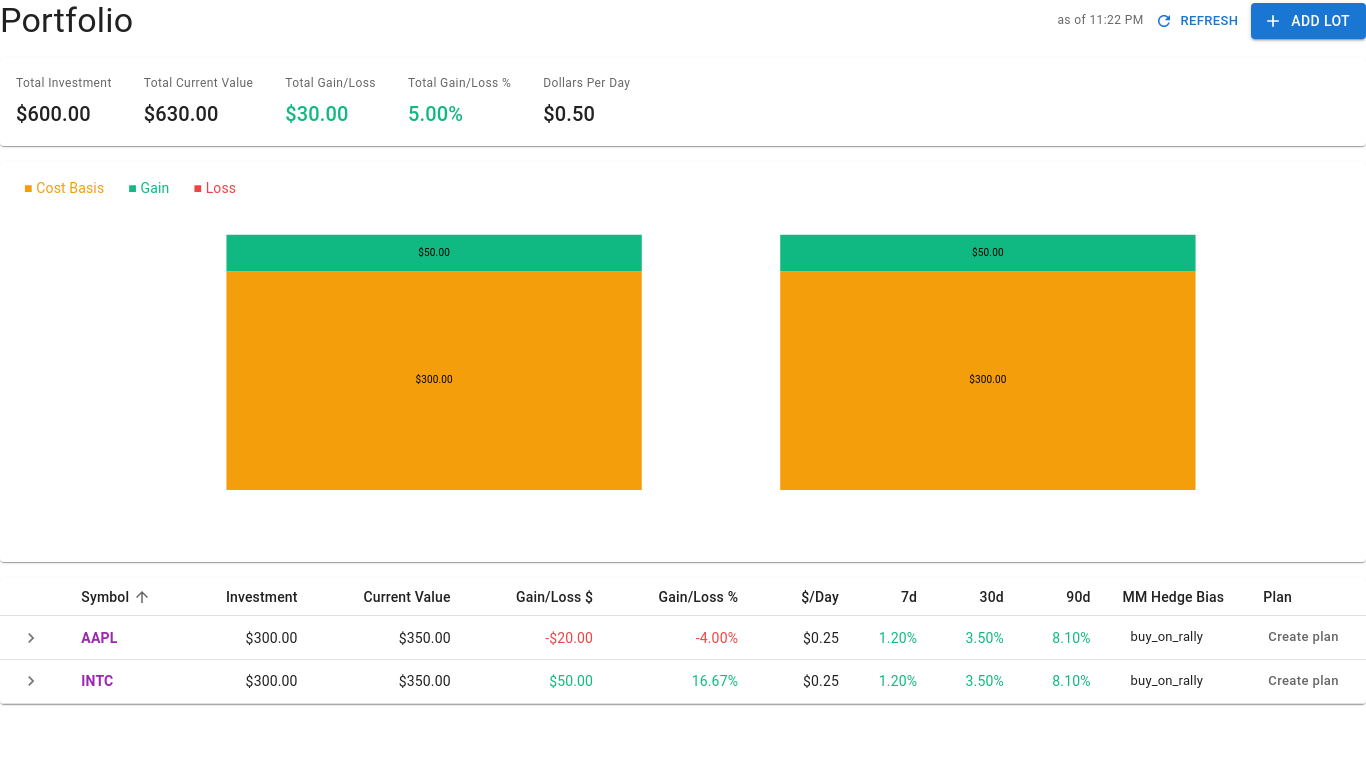
Test: PortfolioPage › opens the Add Lot dialog
This screenshot has width=1366, height=768.
Expected: the text "INTC" is shown, [81,673,113,689]
Click the button "Add Lot".
click(1309, 21)  # box [1251,3,1365,39]
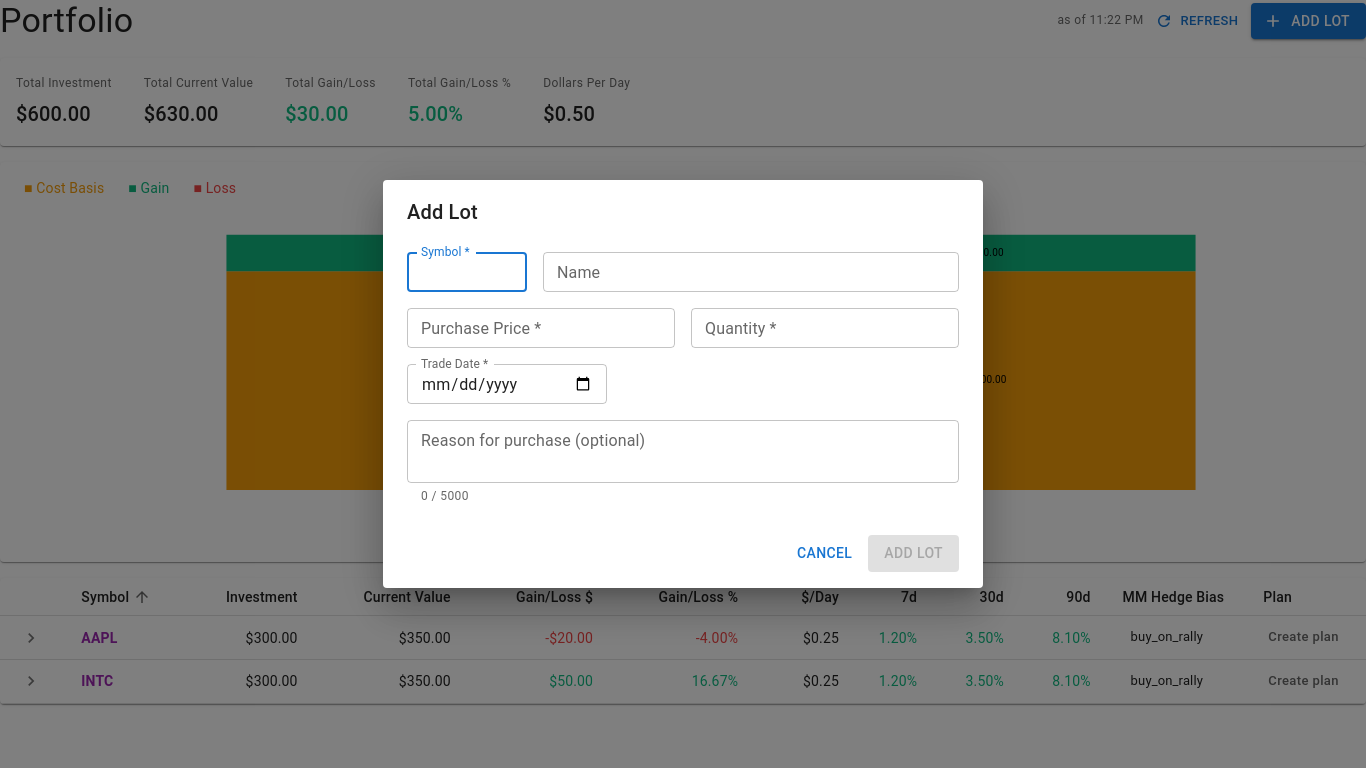
Expected: the dialog is shown, [383,180,983,588]
